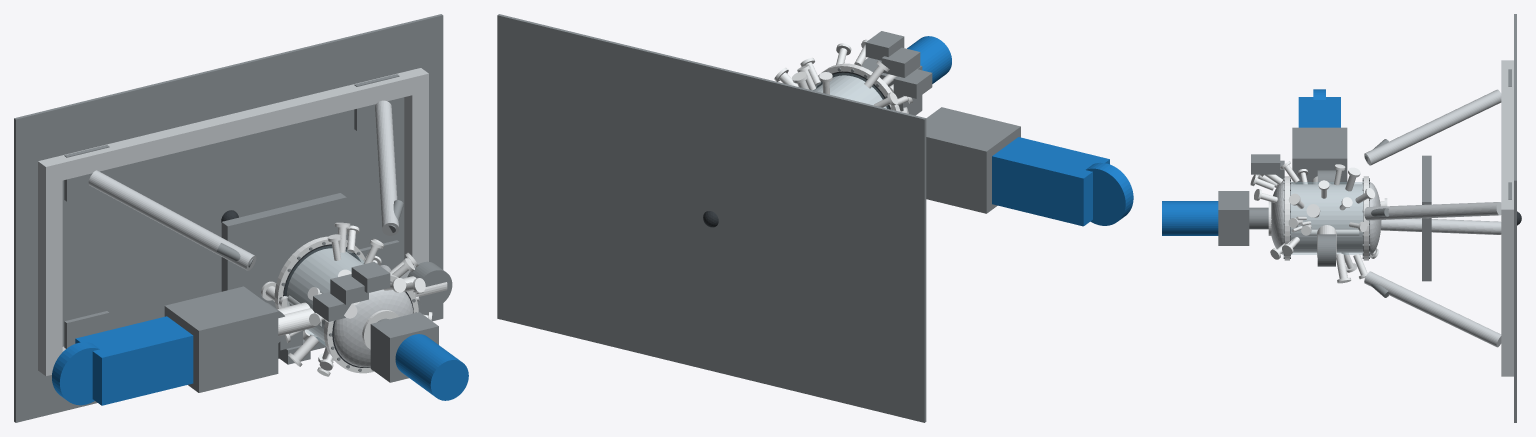
Rendered from OMCA_ANFD_GA_Model_All_Nozzles_Supports.glb.
3 views of the same model, side by side, from view 1: azimuth 30°, elevation 25°; view 2: azimuth 150°, elevation 25°; view 3: azimuth 270°, elevation 25° (orthographic). The views are drawn at different scales.
Parts seen in each view (by area): view 1: FLOOR_DATUM, SKID_LONG_600, GEARBOX_MAIN, MOTOR_M1_BODY, BOTTOM_HEAD_TROLLEY_FRAME, SKID_CROSS_-1200, SKID_CROSS_1200, TOP_DRIVE_MOTOR, SUPPORT_LEG_2, TOP_DISHED_HEAD, TOP_DRIVE_GEARBOX, VESSEL_OUTER_SHELL (+15 smaller); view 2: FLOOR_DATUM, MOTOR_M1_BODY, GEARBOX_MAIN, MOTOR_M1_REAR_FAN, TOP_DRIVE_MOTOR, VESSEL_OUTER_SHELL, VESSEL_INNER_LINER, JB-3, JB-1B, JB-1A, TOP_MAIN_FLANGE; view 3: VESSEL_OUTER_SHELL, VESSEL_INNER_LINER, GEARBOX_MAIN, SKID_CROSS_1200, SUPPORT_LEG_2, SUPPORT_LEG_3, TOP_DRIVE_MOTOR, SKID_LONG_600, SUPPORT_LEG_4, TOP_DRIVE_GEARBOX, SUPPORT_LEG_1, MOTOR_M1_BODY (+9 smaller).
Boxes of the visible parts, x1,y1,x2,y2 form: FLOOR_DATUM: (14, 14, 443, 422); SKID_LONG_600: (39, 68, 428, 184); GEARBOX_MAIN: (164, 286, 278, 392); MOTOR_M1_BODY: (75, 316, 193, 405); BOTTOM_HEAD_TROLLEY_FRAME: (221, 193, 346, 307); SKID_CROSS_-1200: (38, 161, 62, 375); SKID_CROSS_1200: (404, 68, 428, 266); TOP_DRIVE_MOTOR: (395, 334, 468, 400); SUPPORT_LEG_2: (88, 170, 256, 270); TOP_DISHED_HEAD: (333, 289, 413, 367); TOP_DRIVE_GEARBOX: (370, 312, 438, 382); VESSEL_OUTER_SHELL: (285, 246, 363, 345); FLOOR_DATUM: (497, 14, 926, 422); MOTOR_M1_BODY: (992, 137, 1109, 226); GEARBOX_MAIN: (926, 107, 1020, 213); MOTOR_M1_REAR_FAN: (1086, 162, 1133, 225); TOP_DRIVE_MOTOR: (907, 36, 951, 83); VESSEL_OUTER_SHELL: (813, 73, 888, 108); VESSEL_INNER_LINER: (814, 75, 886, 108); JB-3: (893, 69, 932, 98); JB-1B: (881, 47, 920, 77); JB-1A: (865, 31, 904, 60); TOP_MAIN_FLANGE: (813, 63, 900, 111); VESSEL_OUTER_SHELL: (1291, 182, 1362, 254); VESSEL_INNER_LINER: (1290, 184, 1363, 252); GEARBOX_MAIN: (1292, 127, 1347, 184); SKID_CROSS_1200: (1501, 203, 1513, 376); SUPPORT_LEG_2: (1364, 89, 1501, 165); SUPPORT_LEG_3: (1364, 271, 1501, 347); TOP_DRIVE_MOTOR: (1162, 201, 1218, 235); SKID_LONG_600: (1501, 60, 1513, 209); SUPPORT_LEG_4: (1364, 202, 1501, 220); TOP_DRIVE_GEARBOX: (1218, 191, 1249, 245); SUPPORT_LEG_1: (1381, 218, 1501, 234); MOTOR_M1_BODY: (1298, 97, 1340, 127).
Size of the model in its own units: 3335 by 1900 by 2555.
